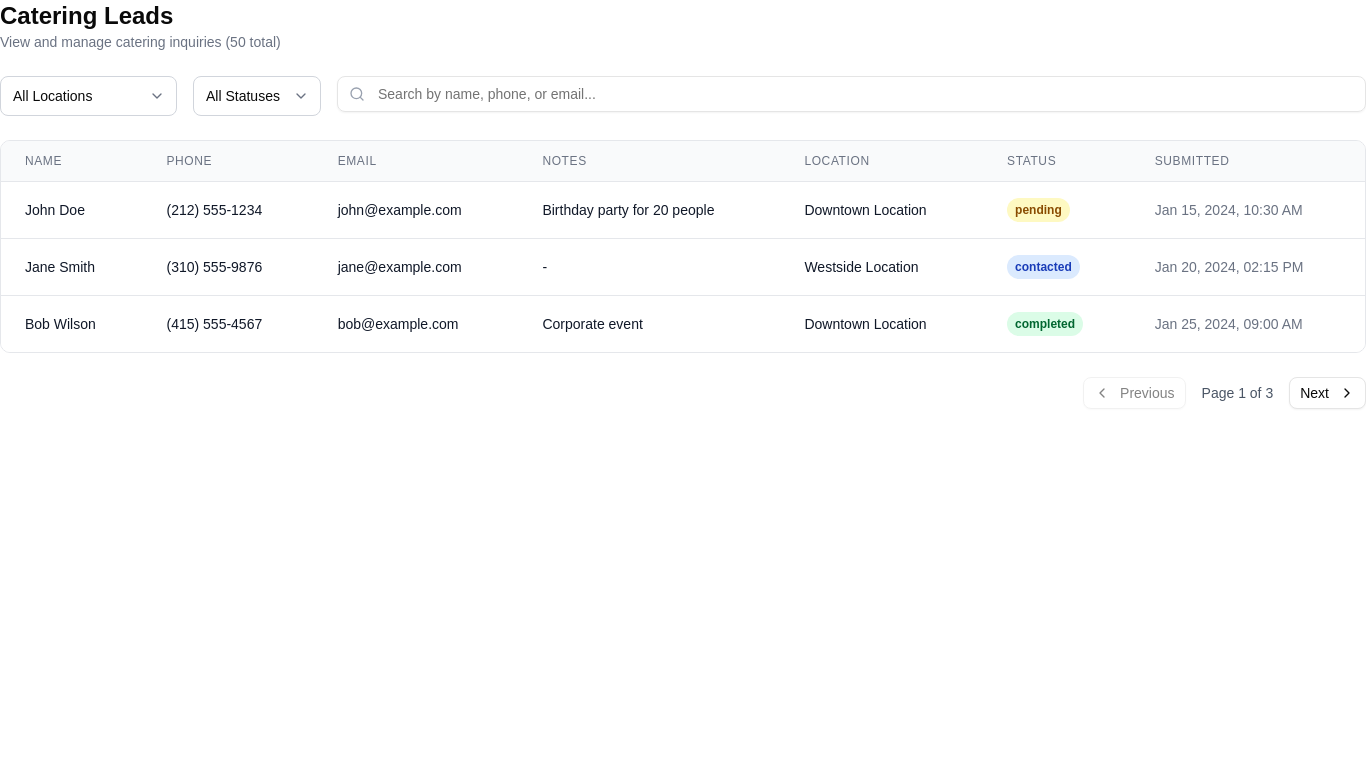
CateringLeadsClient › Lead Detail Modal › should display correct lead data in modal
The image size is (1366, 768).
Click the text "Jane Smith": (683, 267) [1,238,1365,296]
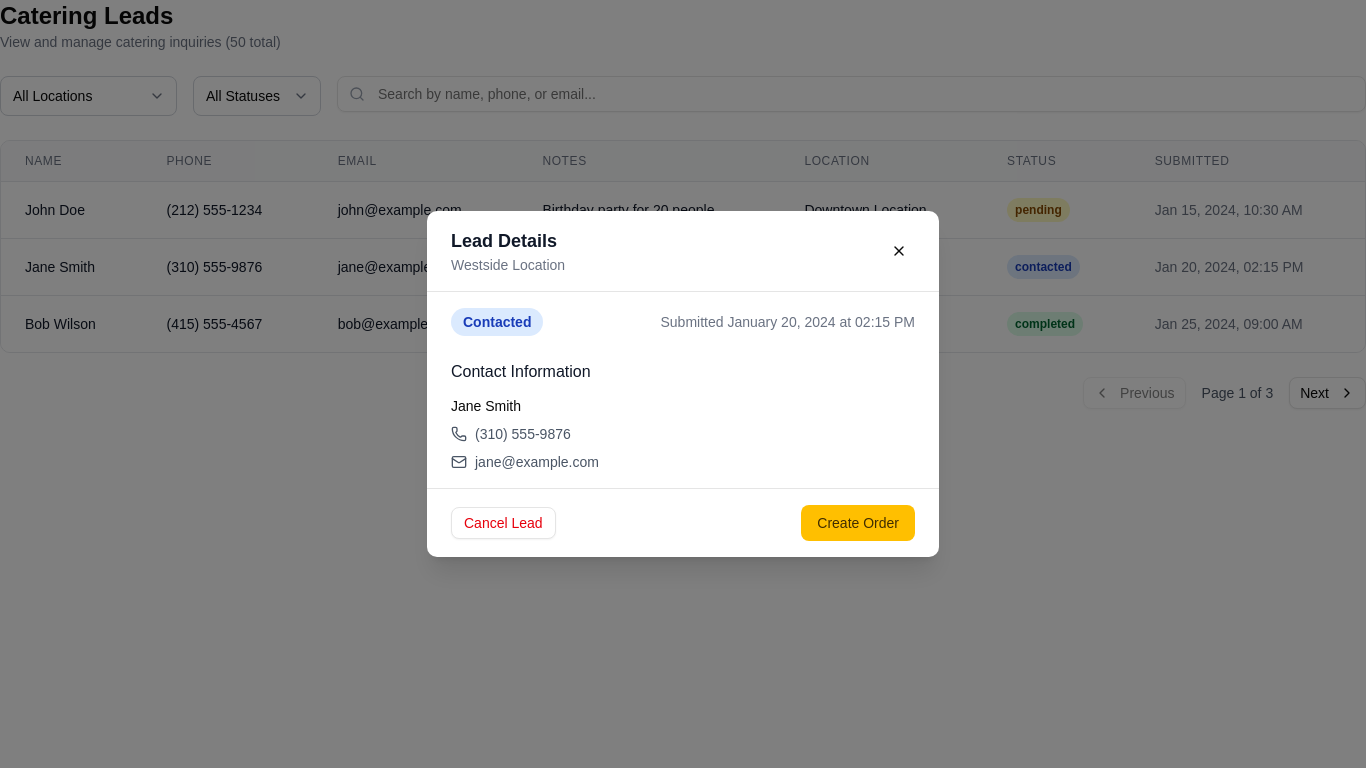
Result: the heading "Lead Details" is shown at [451,227,565,255]
